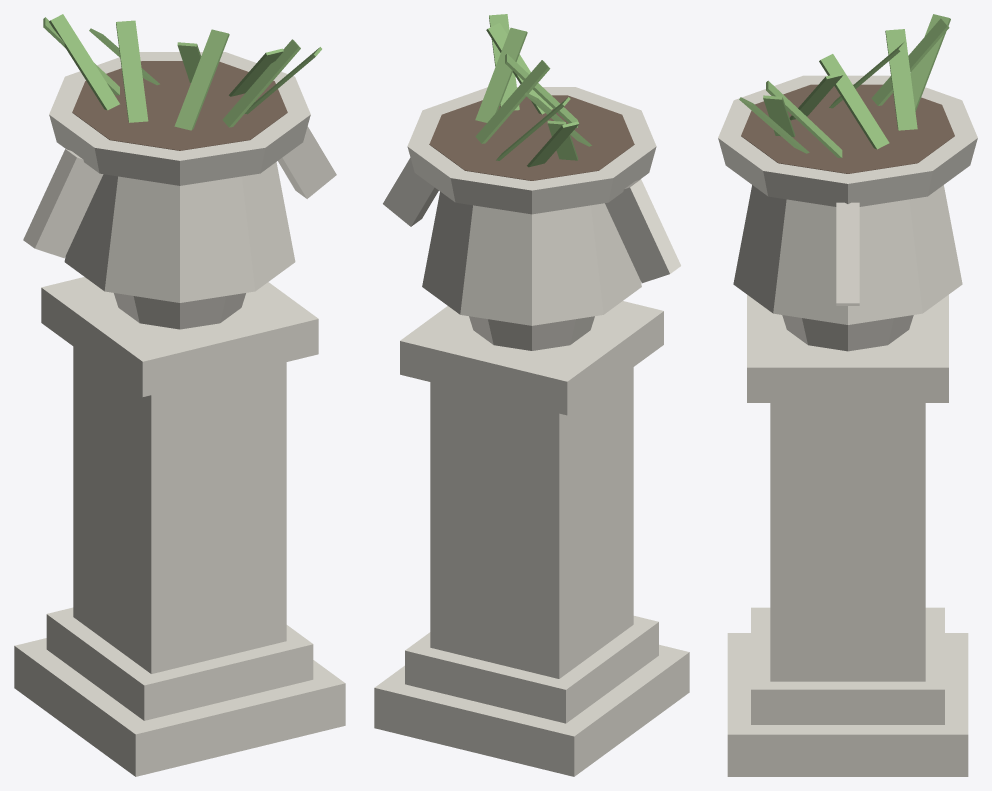
The model's file is botanical-glasshouse-and-palm-house-botanical-glasshou-6917b94d__38574.glb.
The picture shows the model from 3 angles, left to right: view 1: azimuth 30°, elevation 25°; view 2: azimuth 150°, elevation 25°; view 3: azimuth 270°, elevation 25°; orthographic projection. The views are drawn at different scales.
Visible parts, largest first — view 1: botanical-glasshouse-and-palm-house-stone-urn-on-pedestal; view 2: botanical-glasshouse-and-palm-house-stone-urn-on-pedestal; view 3: botanical-glasshouse-and-palm-house-stone-urn-on-pedestal.
Boxes of the visible parts, x1,y1,x2,y2 form: botanical-glasshouse-and-palm-house-stone-urn-on-pedestal: [14, 14, 345, 776]; botanical-glasshouse-and-palm-house-stone-urn-on-pedestal: [374, 14, 689, 776]; botanical-glasshouse-and-palm-house-stone-urn-on-pedestal: [718, 14, 977, 776].
Size of the model in its own units: 0.8925 by 1.9 by 0.6697.
